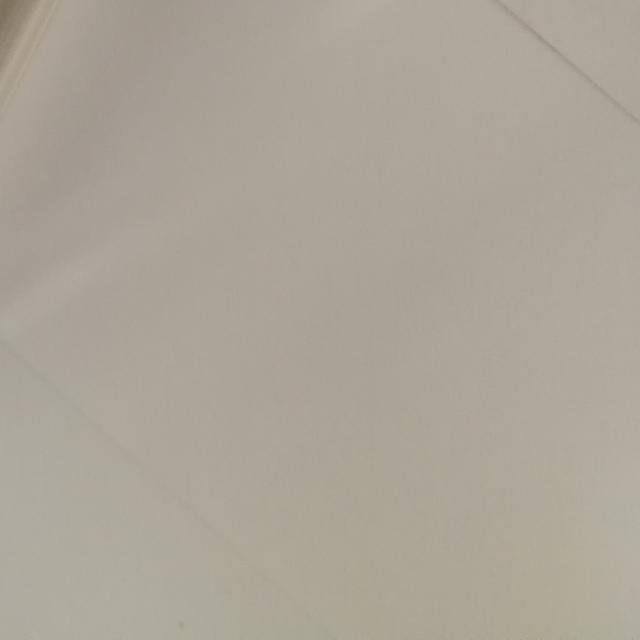fluorescent tube: (0, 0, 310, 597)
